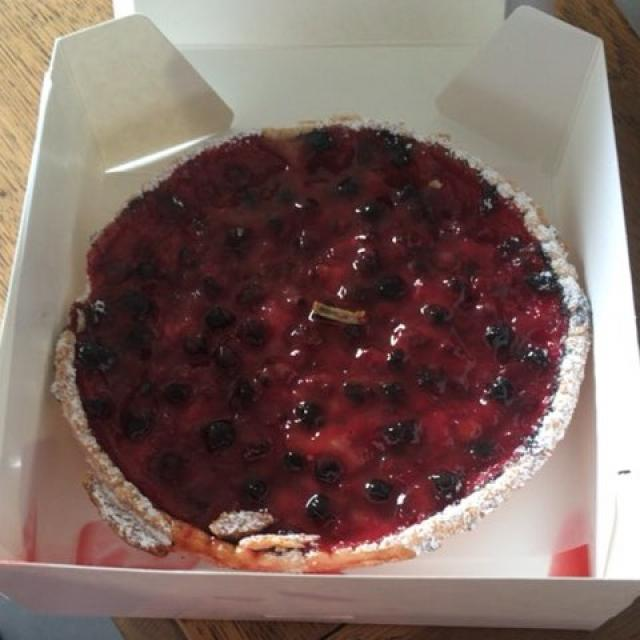fruit-tart: (89, 121, 575, 557)
